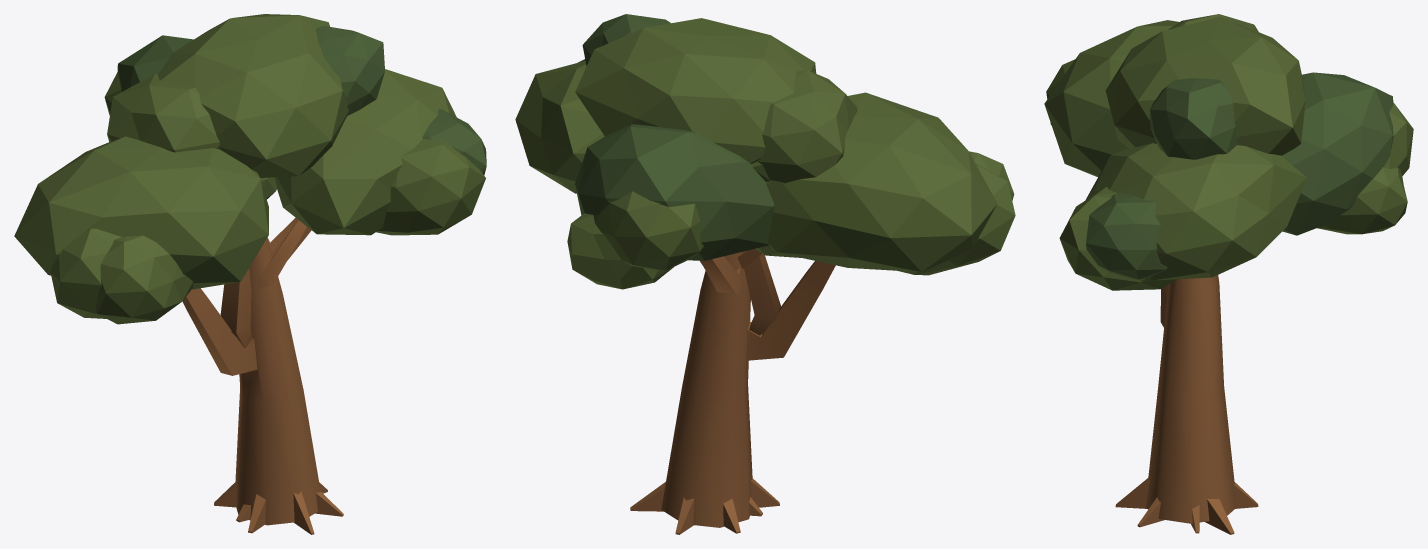
Rendered from tree_oak_b.glb.
The picture shows the model from 3 angles, left to right: view 1: azimuth 30°, elevation 25°; view 2: azimuth 150°, elevation 25°; view 3: azimuth 270°, elevation 25°; orthographic projection. The views are drawn at different scales.
Visible parts, largest first — view 1: tree_oak_b_LOD0; view 2: tree_oak_b_LOD0; view 3: tree_oak_b_LOD0.
Part boxes in pixels (bbox=[...]): tree_oak_b_LOD0: bbox=[14, 14, 486, 534]; tree_oak_b_LOD0: bbox=[515, 14, 1015, 534]; tree_oak_b_LOD0: bbox=[1044, 14, 1413, 534].
Size of what is drawn, in the model's own units: 5.3 by 5.48 by 3.93.
